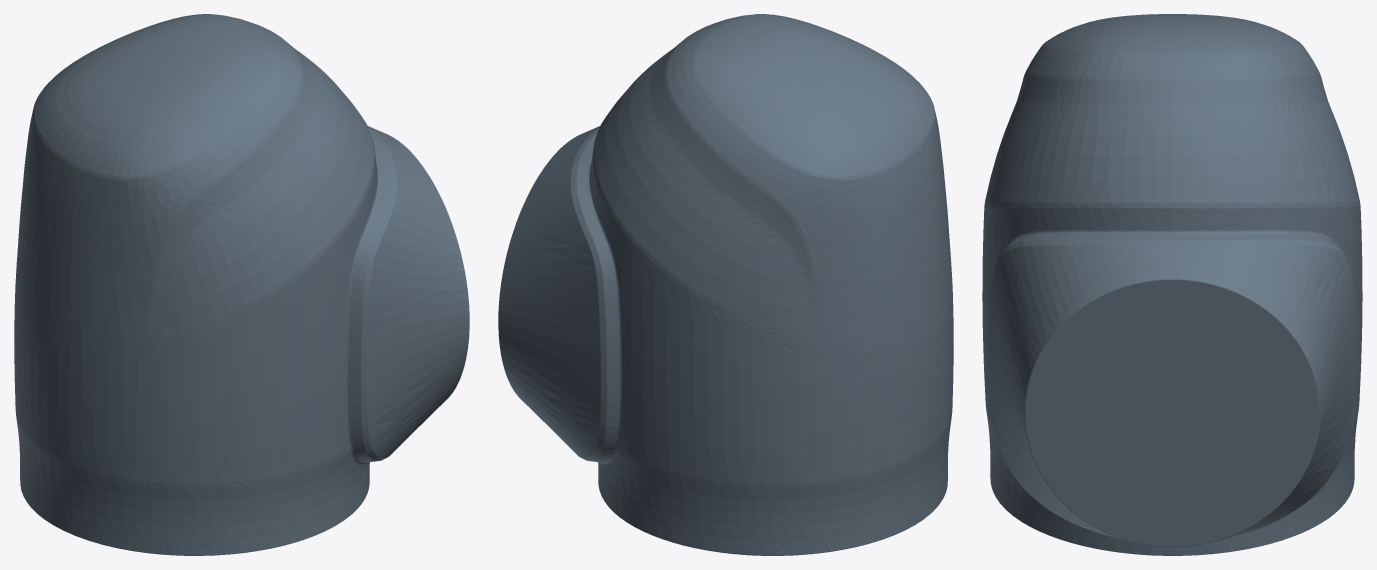
The picture shows the model from 3 angles, left to right: view 1: azimuth 30°, elevation 25°; view 2: azimuth 150°, elevation 25°; view 3: azimuth 270°, elevation 25°; orthographic projection. The views are drawn at different scales.
Visible parts, largest first — view 1: H2515_2_0; view 2: H2515_2_0; view 3: H2515_2_0.
Part boxes in pixels (x1,y1,x2,y2): H2515_2_0: (14,14,469,555); H2515_2_0: (498,14,953,555); H2515_2_0: (982,14,1362,555).
Size of the model in its own units: 243 by 213 by 283.
